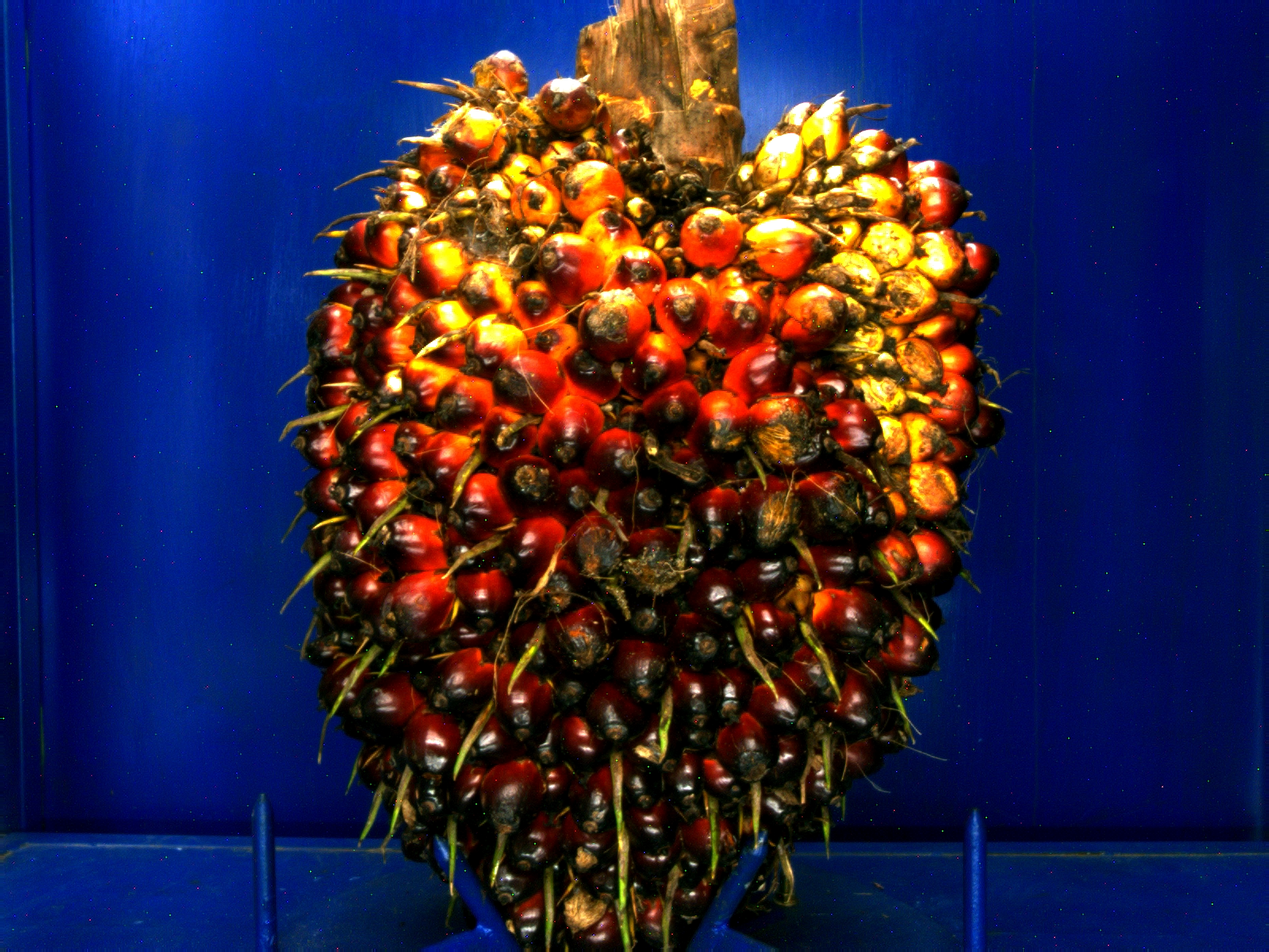TBS: (293, 0, 1002, 935)
